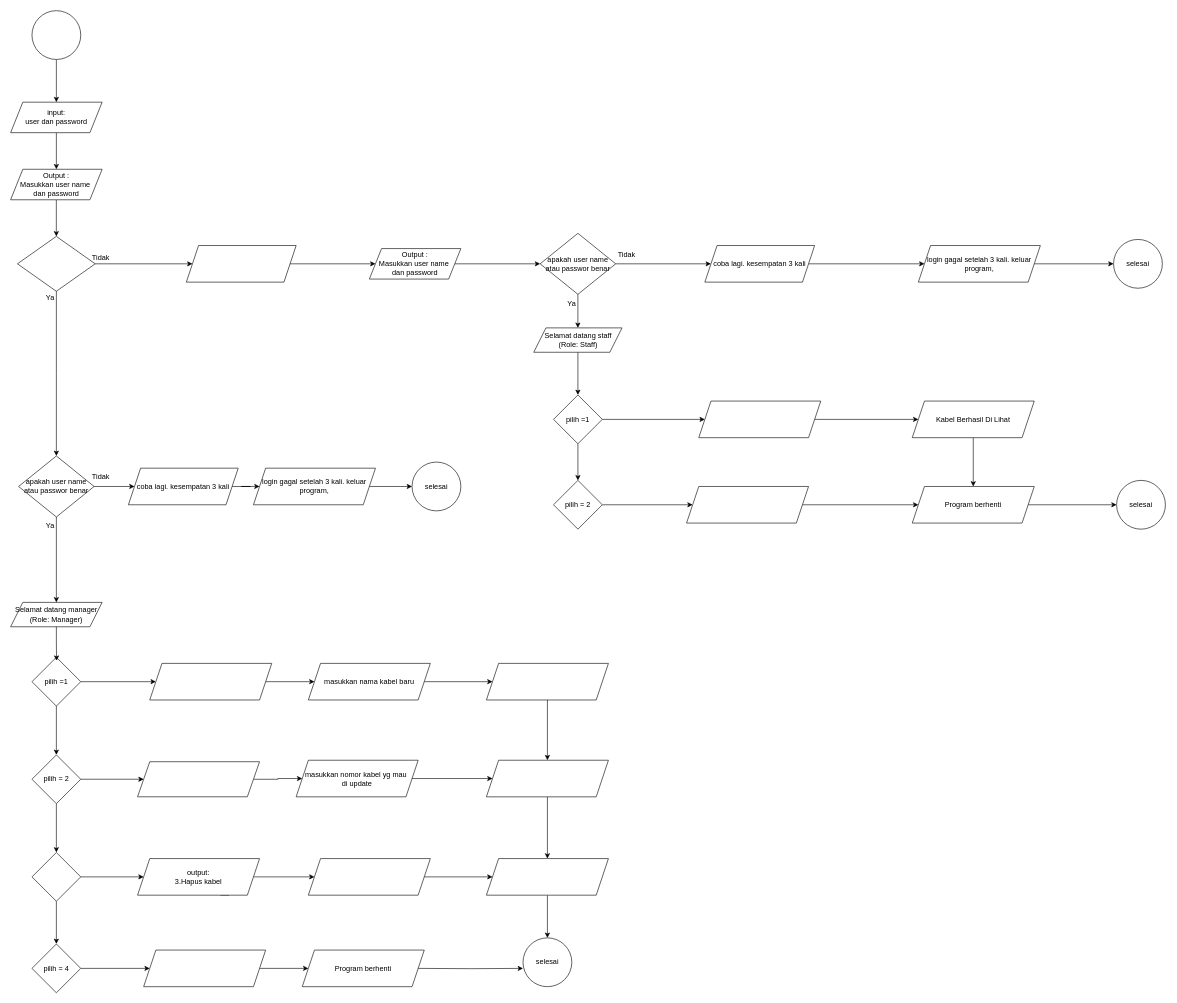
The diagram is 1177 pixels wide and 1003 high, and some of its shapes have lost their labels. Each missing label, with the centre of its shape:
"1.Lihat Kabel" belongs at point (759, 419).
"2.Keluar" belongs at point (747, 504).
"akan masuk ke user staff" belongs at point (241, 263).
"apakah usernya manager" belongs at point (56, 263).
"kabel berhasil di hapus/di kurangin" belongs at point (547, 876).
"kabel berhasil di uptade" belongs at point (547, 778).
"Kabel berhasil ditambahkan" belongs at point (547, 681).
"Masukkan nomor kabel yg mau di hapus" belongs at point (369, 876).
"mulai" belongs at point (56, 34).
"output 1.tambah kabel" belongs at point (210, 681).
"output: 2.update kabel" belongs at point (198, 779).
"output: 4.keluar" belongs at point (204, 968).
"Pilih = 3" belongs at point (56, 876).
